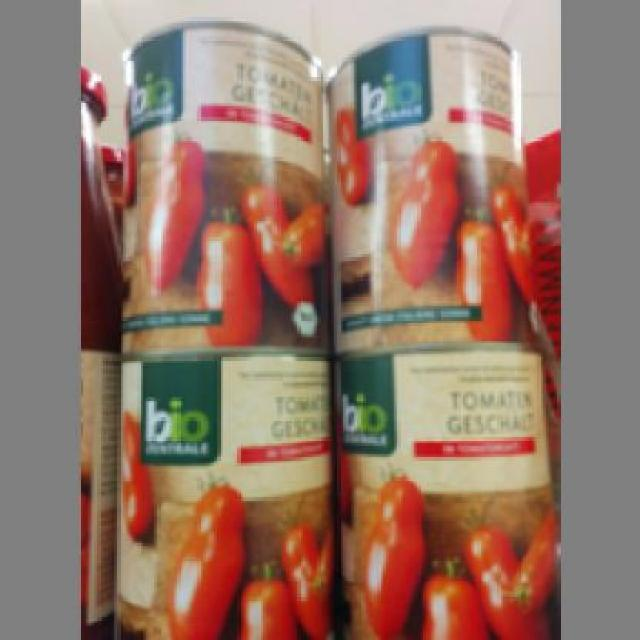Tomato Sauce: (114, 13, 326, 350), (102, 352, 332, 638), (334, 340, 552, 637), (323, 23, 511, 343)
